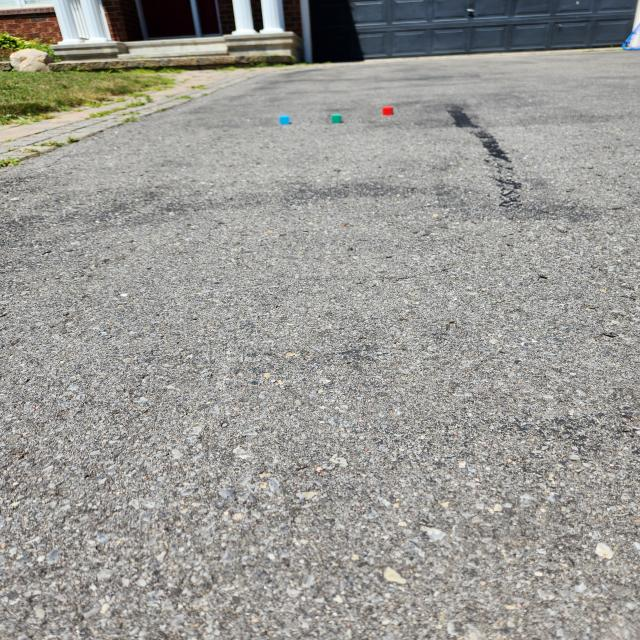bluecube: (280, 115, 290, 124)
green cube: (331, 114, 342, 123)
red cube: (383, 106, 393, 116)
